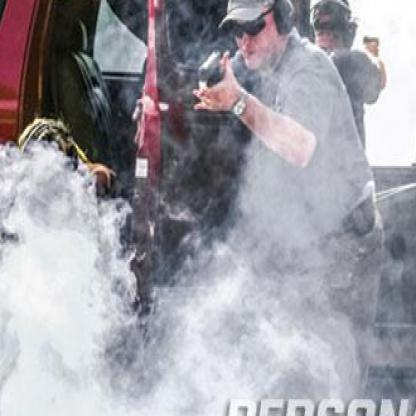gun: (197, 45, 223, 96), (363, 34, 379, 56)
